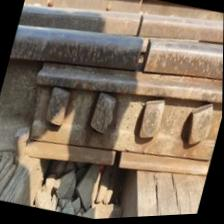person: (114, 33, 166, 84), (102, 141, 138, 178), (125, 11, 156, 40)
